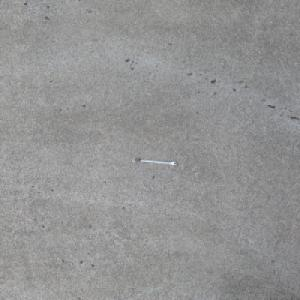Wrench: (133, 158, 177, 165)
